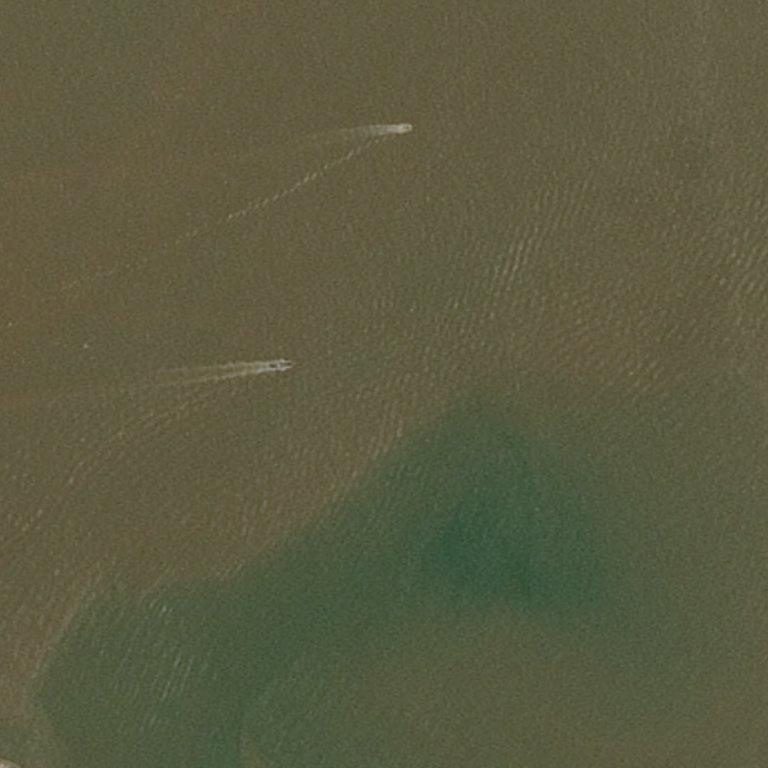ship: (269, 357, 293, 366), (14, 125, 31, 133)
